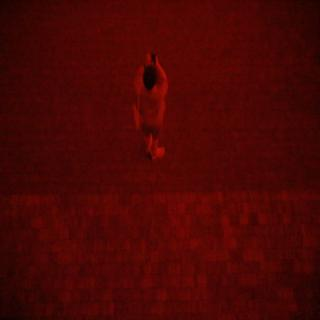person: (126, 40, 176, 163)
